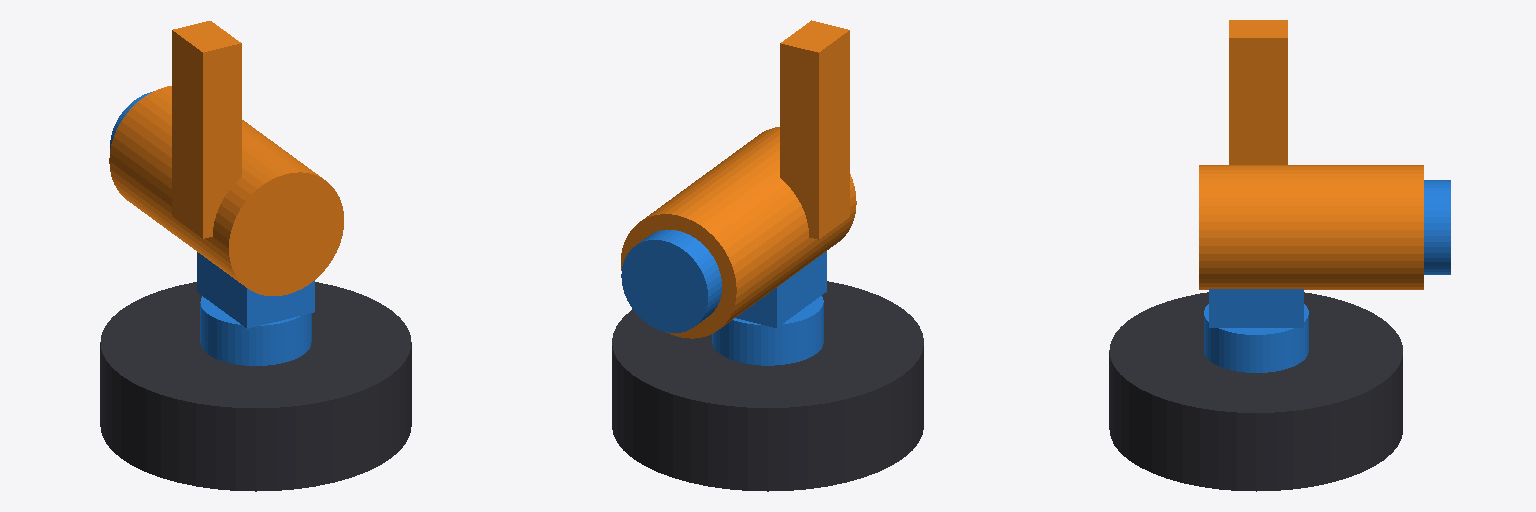
robot.urdf — stemarm:
<?xml version="1.0" encoding="utf-8"?>
<!-- This URDF was automatically created by SolidWorks to URDF Exporter! Originally created by Stephen Brawner (brawner@gmail.com) 
     Commit Version: 1.6.0-4-g7f85cfe  Build Version: 1.6.7995.38578
     For more information, please see http://wiki.ros.org/sw_urdf_exporter -->
<robot name="stemarm">

  <link name="base_link">
    <inertial>
      <origin xyz="-3.2974E-06 7.2269E-06 0.014103" rpy="0 0 0" />
      <mass value="2.503" />
      <inertia
        ixx="0.012947"
        ixy="1.8527E-08"
        ixz="-5.6004E-08"
        iyy="0.01295"
        iyz="-3.2545E-07"
        izz="0.025683" />
    </inertial>
    <visual>
      <origin xyz="0 0 0" rpy="0 0 0" />
      <geometry>
        <mesh filename="package://stemarm/meshes/base_link.STL" />
      </geometry>
      <material name="dark_gray">
        <color rgba="0.25 0.25 0.28 1" />
      </material>
    </visual>
    <collision>
      <origin xyz="0 0 0" rpy="0 0 0" />
      <geometry>
        <mesh filename="package://stemarm/meshes/base_link.STL" />
      </geometry>
    </collision>
  </link>

  <link name="frist_link">
    <inertial>
      <origin
        xyz="-3.81873566027764E-05 0.0887557838955302 0.0507704661063244"
        rpy="0 0 0" />
      <mass value="1.46586058779625" />
      <inertia
        ixx="0.0113271457463588"
        ixy="-4.68701691629729E-06"
        ixz="1.99664005663409E-09"
        iyy="0.00397517822783732"
        iyz="-0.00336659147528366"
        izz="0.0103073555360312" />
    </inertial>
    <visual>
      <origin xyz="0 0 0" rpy="0 0 0" />
      <geometry>
        <mesh filename="package://stemarm/meshes/frist_link.STL" />
      </geometry>
      <material name="blue">
        <color rgba="0.20 0.55 0.90 1" />
      </material>
    </visual>
    <collision>
      <origin xyz="0 0 0" rpy="0 0 0" />
      <geometry>
        <mesh filename="package://stemarm/meshes/frist_link.STL" />
      </geometry>
    </collision>
  </link>

  <joint name="joint1" type="revolute">
    <origin xyz="0 0 0.0825" rpy="0 0 0" />
    <parent link="base_link" />
    <child link="frist_link" />
    <axis xyz="0 0 1" />
    <limit lower="-3.14" upper="3.14" effort="9" velocity="3.14" />
  </joint>

  <link name="second_link">
    <inertial>
      <origin
        xyz="0.00321446594259023 0.0160632732912604 -0.0332223484125939"
        rpy="0 0 0" />
      <mass value="2.7216124473839" />
      <inertia
        ixx="0.00305886692607988"
        ixy="1.57415289069881E-05"
        ixz="4.20428536229789E-07"
        iyy="0.00277523187626082"
        iyz="1.32426238105123E-06"
        izz="0.00418290939503166" />
    </inertial>
    <visual>
      <origin xyz="0 0 0" rpy="0 0 0" />
      <geometry>
        <mesh filename="package://stemarm/meshes/second_link.STL" />
      </geometry>
      <material name="orange">
        <color rgba="0.95 0.55 0.15 1" />
      </material>
    </visual>
    <collision>
      <origin xyz="0 0 0" rpy="0 0 0" />
      <geometry>
        <mesh filename="package://stemarm/meshes/second_link.STL" />
      </geometry>
    </collision>
  </link>

  <joint name="joint2" type="revolute">
    <origin xyz="0 0 0.12965" rpy="1.5708 0 0" />
    <parent link="frist_link" />
    <child link="second_link" />
    <axis xyz="0 0 1" />
    <limit lower="0" upper="1.6" effort="20" velocity="3.14" />
  </joint>

</robot>

--- Facts derived from the render (not from the file) ---
The picture shows the robot from 3 angles, left to right: view 1: azimuth 30°, elevation 25°; view 2: azimuth 150°, elevation 25°; view 3: azimuth 270°, elevation 25°; orthographic projection.
Model stemarm with 3 links and 2 joints (2 revolute), rooted at base_link, posed all joints at 0.
Links seen in each view (by area): view 1: base_link, second_link, frist_link; view 2: base_link, second_link, frist_link; view 3: base_link, second_link, frist_link.
Boxes of the visible links, x1,y1,x2,y2 form: base_link: (100,282,411,491); second_link: (109,21,343,295); frist_link: (110,91,314,365); base_link: (612,281,923,491); second_link: (621,20,856,338); frist_link: (621,230,826,365); base_link: (1109,292,1402,491); second_link: (1199,20,1423,289); frist_link: (1204,180,1450,372).
Size in the robot's own frame: 0.28 by 0.325 by 0.3972 metres.
3 mesh visuals loaded from 3 distinct referenced files (3 binary STL).
